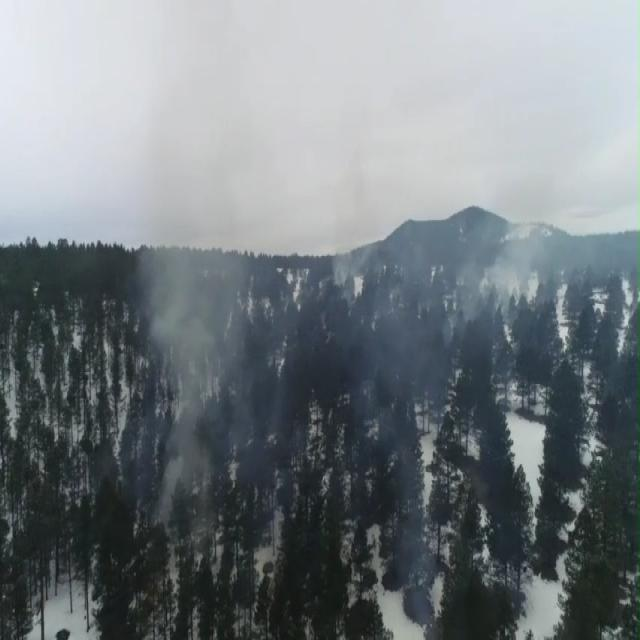Smoke: (151, 251, 243, 519), (480, 223, 540, 310)
